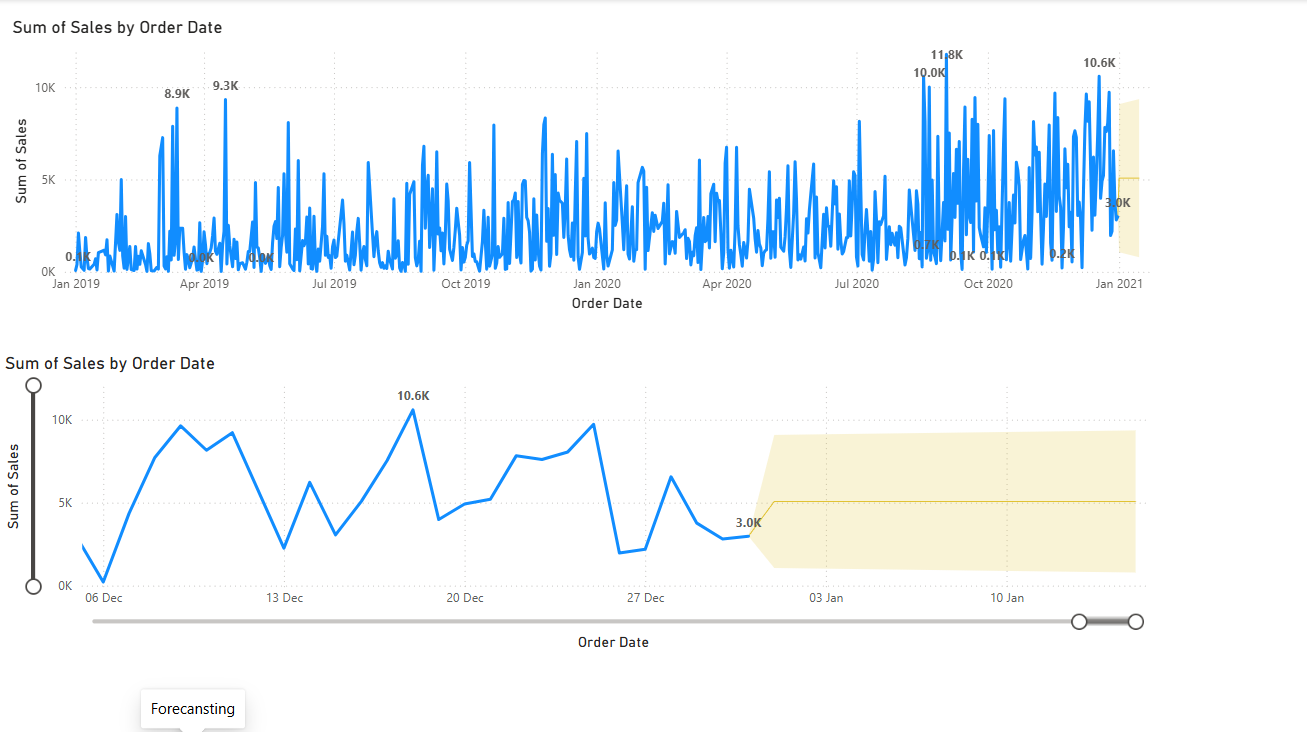

The dashboard page shown, as its layout file describes it:
{"tool":"powerbi","page":{"name":"Forecansting","canvas":[1280,720],"ordinal":1},"visuals":[{"type":"lineChart","fields":{"Y":["Sum(SuperStore_Sales_Dataset.Sales)"],"Category":["SuperStore_Sales_Dataset.Order Date"]},"box":[7.5,17.5,1136.2,293.8],"z":0},{"type":"lineChart","fields":{"Y":["Sum(SuperStore_Sales_Dataset.Sales)"],"Category":["SuperStore_Sales_Dataset.Order Date"]},"box":[0,346.2,1132.5,295],"z":1000}]}

Visuals, with their boxes in screenshot pixels (x1, y1, x2, y2), scaled from the page's 1280x720 canvas onto the 1307x732 screenshot:
lineChart - Sum(SuperStore_Sales_Dataset.Sales) x SuperStore_Sales_Dataset.Order Date: region(8, 18, 1168, 316)
lineChart - Sum(SuperStore_Sales_Dataset.Sales) x SuperStore_Sales_Dataset.Order Date: region(0, 352, 1156, 652)
